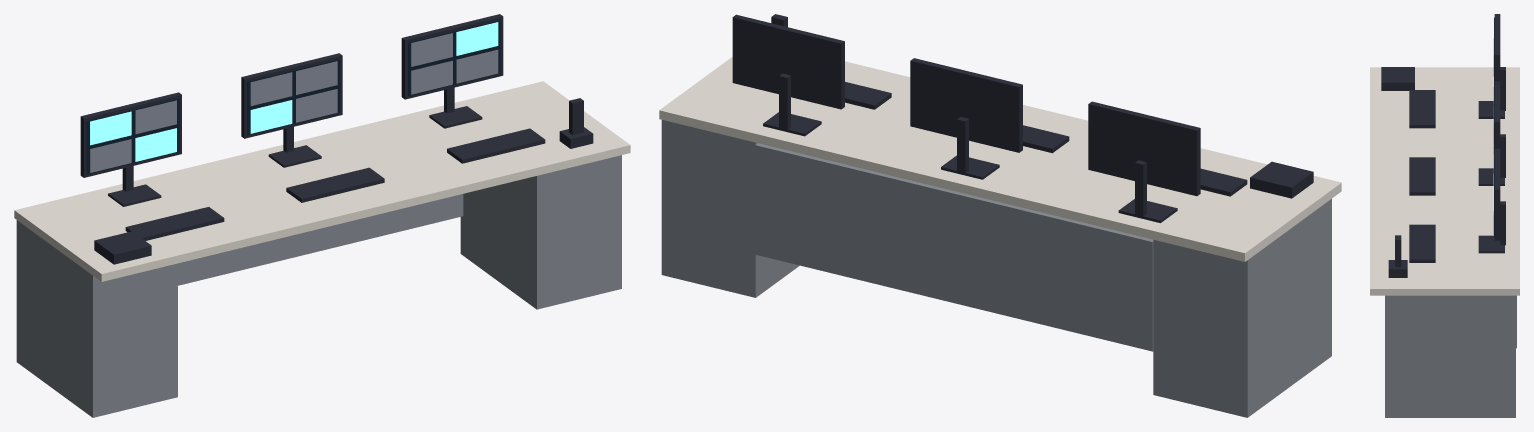
The model's file is mal-025.glb.
3 renders of one model, left to right at view 1: azimuth 30°, elevation 25°; view 2: azimuth 150°, elevation 25°; view 3: azimuth 270°, elevation 25°, orthographic. The views are drawn at different scales.
Visible parts, largest first — view 1: service_door, laminate, plastic_dark, locker_grey, pump_screen, monitor_screen; view 2: service_door, laminate, plastic_dark; view 3: laminate, service_door, plastic_dark, monitor_screen.
Part boxes in pixels (left/top/right/bottom): service_door: left=16, top=155, right=621, bottom=417; laminate: left=14, top=81, right=630, bottom=281; plastic_dark: left=80, top=14, right=593, bottom=264; locker_grey: left=90, top=33, right=498, bottom=172; pump_screen: left=90, top=22, right=498, bottom=161; monitor_screen: left=86, top=20, right=500, bottom=174; service_door: left=661, top=120, right=1331, bottom=417; laminate: left=659, top=57, right=1341, bottom=261; plastic_dark: left=732, top=14, right=1313, bottom=222; laminate: left=1370, top=67, right=1519, bottom=295; service_door: left=1385, top=295, right=1516, bottom=417; plastic_dark: left=1381, top=14, right=1505, bottom=277; monitor_screen: left=1494, top=17, right=1494, bottom=236.
Size of the model in its own units: 2.8 by 1.21 by 0.8.
